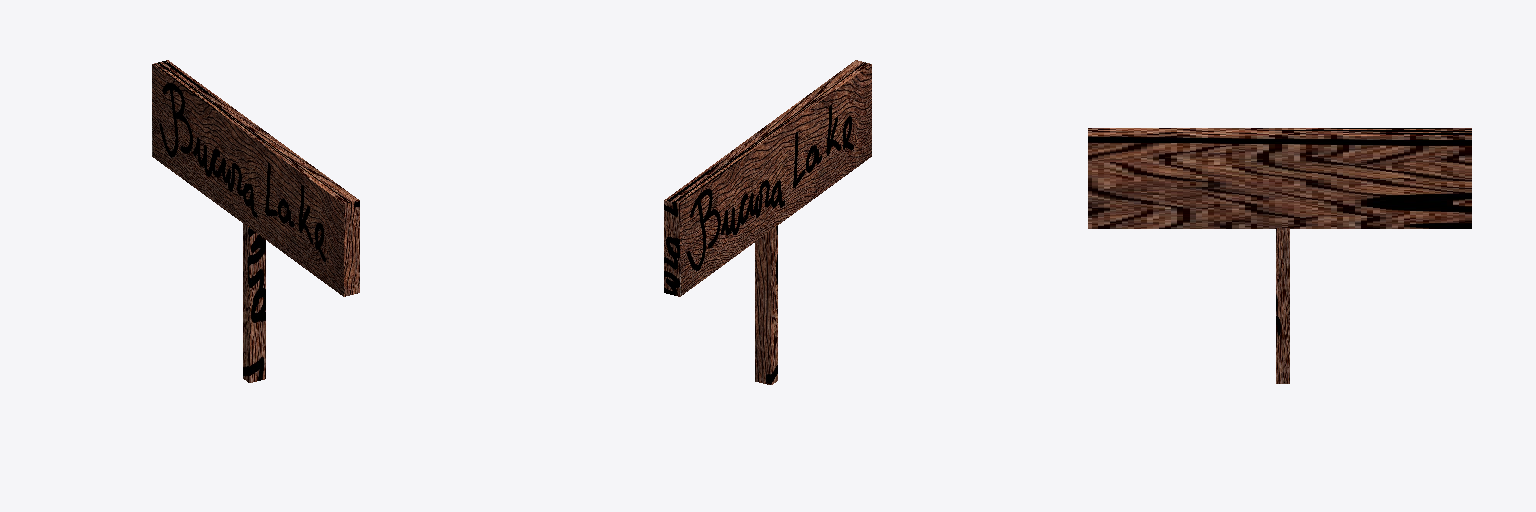
3 renders of one model, left to right at view 1: azimuth 30°, elevation 25°; view 2: azimuth 150°, elevation 25°; view 3: azimuth 270°, elevation 25°, orthographic.
Visible parts, largest first — view 1: Cube, Cube.001; view 2: Cube, Cube.001; view 3: Cube, Cube.001.
Part boxes in pixels (bbox=[...]): Cube: bbox=[152, 60, 359, 296]; Cube.001: bbox=[243, 223, 265, 382]; Cube: bbox=[664, 60, 871, 296]; Cube.001: bbox=[755, 225, 777, 384]; Cube: bbox=[1088, 128, 1471, 228]; Cube.001: bbox=[1276, 228, 1289, 383].
Size of the model in its own units: 0.2497 by 3.56 by 4.99.
Materials: 2 (1 with a texture image).